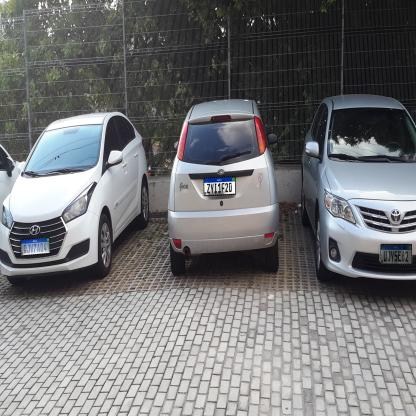PlacaM: (380, 244, 412, 265), (204, 176, 235, 196), (21, 237, 50, 256)
